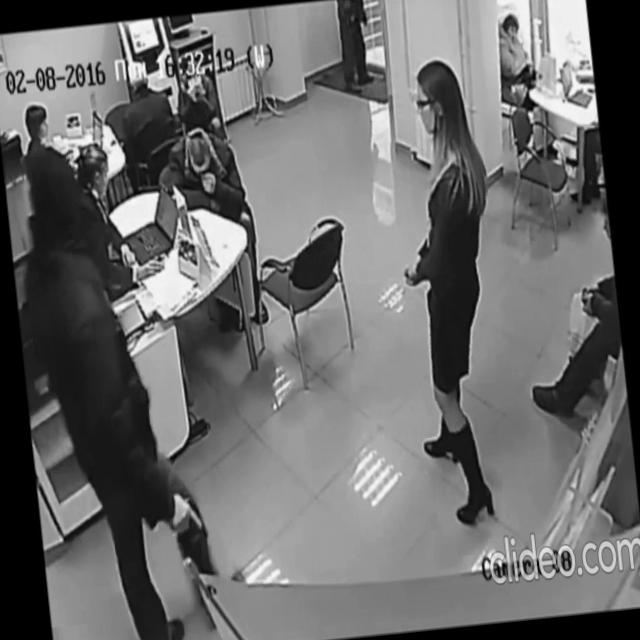gun: (180, 488, 210, 544)
person: (381, 52, 524, 532), (155, 117, 270, 335), (60, 128, 168, 298), (490, 5, 560, 163), (116, 53, 186, 199), (21, 98, 67, 186)
person with a gun: (10, 127, 229, 640)
